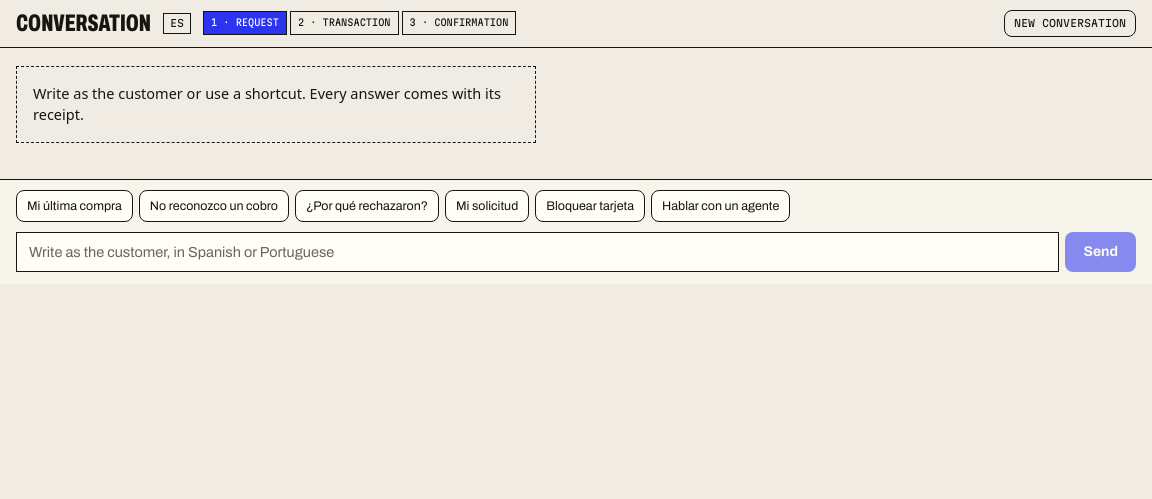
Test case: resposta perdida depois do sim: a tela relê a conversa, mostra o protocolo e não reenvia
The image size is (1152, 499).
Type "No reconozco el cobro de Uber" into the field labelled "Write as the customer, in Spanish or Portuguese" at (538, 252), box [16, 232, 1059, 272]
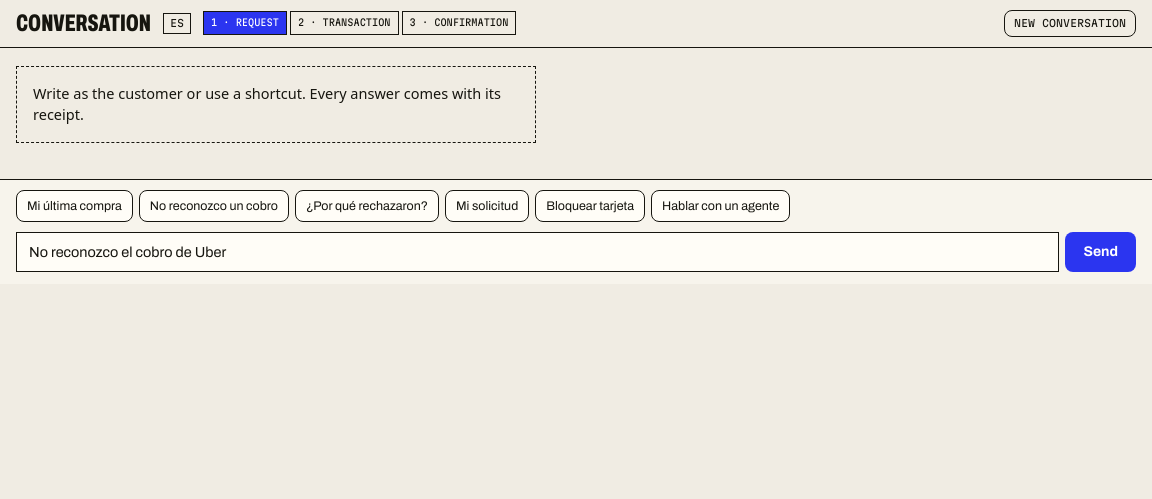
Click the button "Send" at (1101, 252), box [1065, 232, 1136, 272]
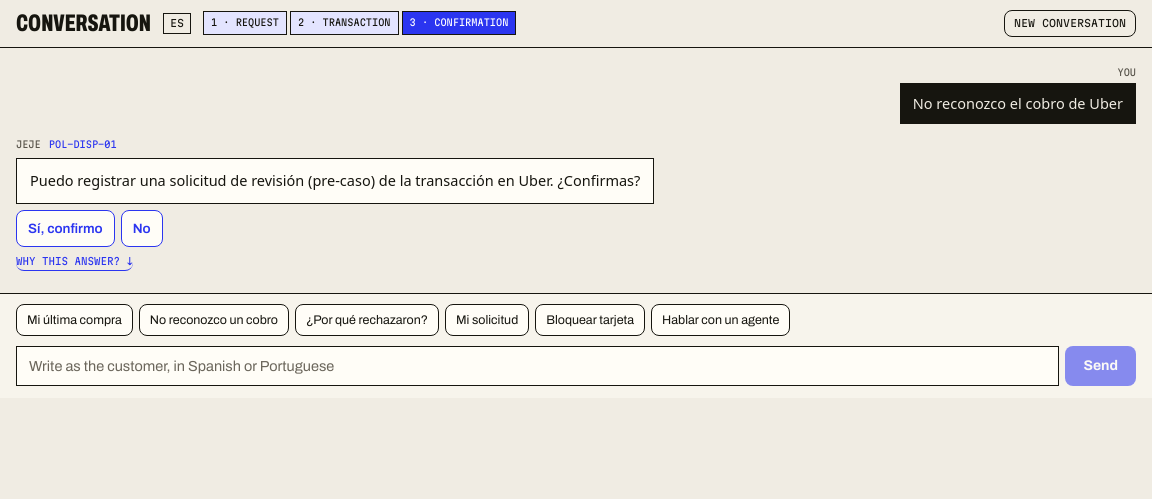
Click the button "Sí, confirmo" at (65, 229), box [16, 210, 115, 247]
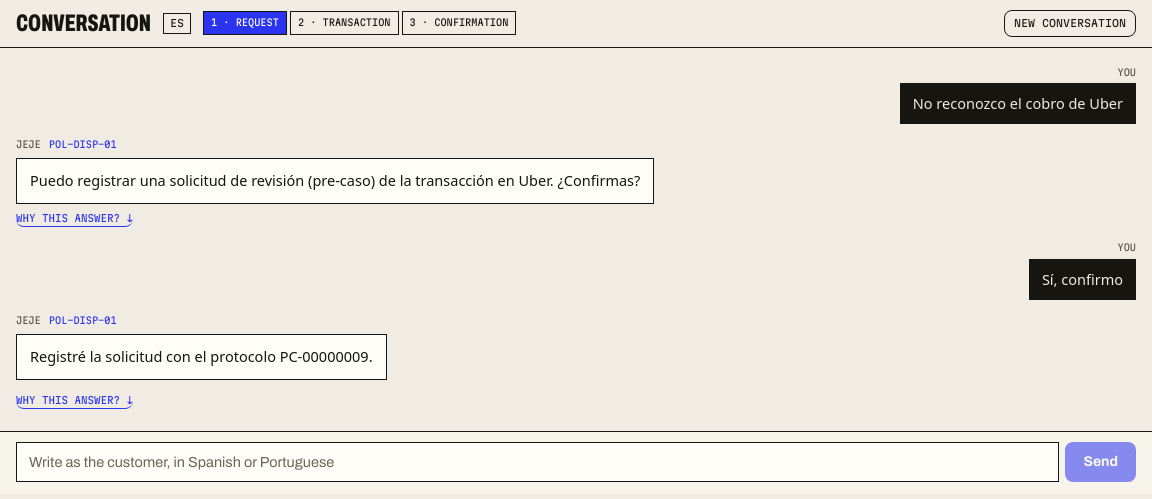
Now the text "Registré la solicitud con el protocolo PC-00000009." is shown, box [30, 346, 372, 368]
